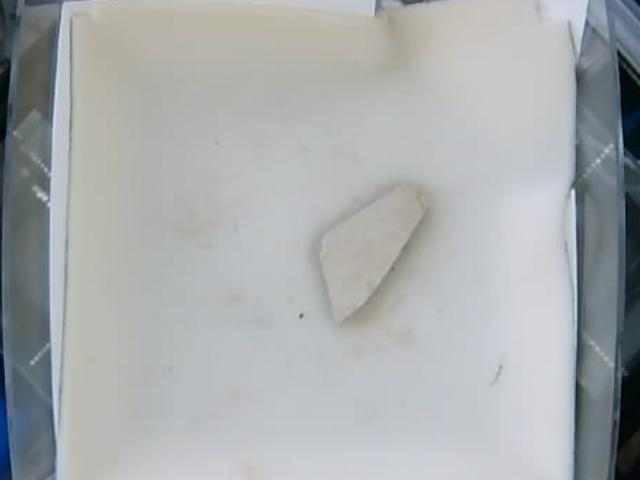China: (316, 183, 426, 317)
